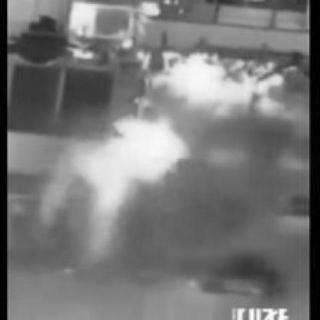Fire: (44, 52, 276, 262), (114, 4, 173, 64)
